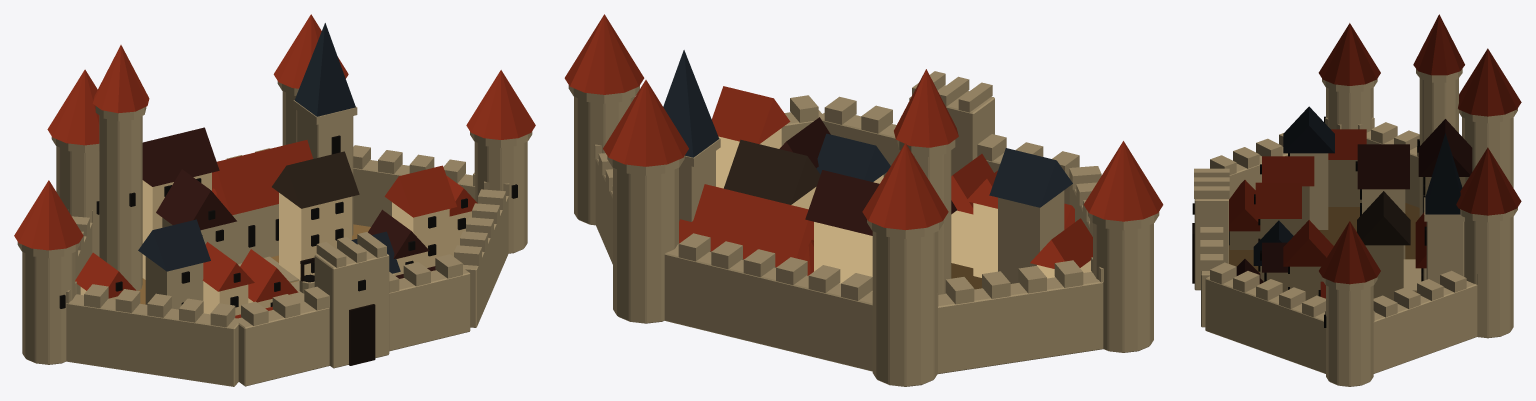
The model's file is settle_2_2.obj.
3 views of the same model, side by side, from view 1: azimuth 30°, elevation 25°; view 2: azimuth 150°, elevation 25°; view 3: azimuth 270°, elevation 25° (orthographic). The views are drawn at different scales.
Visible parts, largest first — view 1: core_stone, core_roof_civic, core_plaster, core_roof_tile, core_roof_tile_old, core_roof_shingle, core_slate, core_roof_slate, core_window, core_wood_dark; view 2: core_stone, core_roof_civic, core_roof_tile, core_plaster, core_roof_slate, core_roof_tile_old, core_roof_shingle, core_slate; view 3: core_stone, core_roof_civic, core_roof_tile, core_plaster, core_roof_tile_old, core_roof_slate, core_roof_shingle, core_slate, core_cloth, core_window.
Part boxes in pixels (x1,y1,x2,y2): core_stone: [17, 81, 532, 386]; core_roof_civic: [14, 14, 535, 250]; core_plaster: [80, 172, 471, 315]; core_roof_tile: [75, 165, 477, 318]; core_roof_tile_old: [142, 127, 435, 278]; core_roof_shingle: [272, 151, 359, 208]; core_slate: [294, 23, 355, 116]; core_roof_slate: [138, 219, 400, 273]; core_window: [59, 135, 517, 308]; core_wood_dark: [300, 257, 375, 365]; core_stone: [568, 71, 1159, 386]; core_roof_civic: [564, 14, 1163, 275]; core_roof_tile: [711, 86, 1092, 268]; core_plaster: [716, 128, 1091, 291]; core_roof_slate: [816, 133, 1072, 207]; core_roof_tile_old: [779, 117, 956, 235]; core_roof_shingle: [723, 139, 820, 204]; core_slate: [663, 50, 719, 157]; core_stone: [1194, 69, 1517, 386]; core_roof_civic: [1318, 14, 1521, 284]; core_roof_tile: [1229, 129, 1366, 298]; core_plaster: [1229, 160, 1465, 300]; core_roof_tile_old: [1236, 119, 1472, 283]; core_roof_slate: [1253, 106, 1334, 265]; core_roof_shingle: [1357, 191, 1410, 245]; core_slate: [1425, 133, 1462, 214]; core_cloth: [1229, 203, 1419, 292]; core_window: [1192, 116, 1426, 327].
Size of the model in its own units: 1.72 by 0.782 by 1.07.
